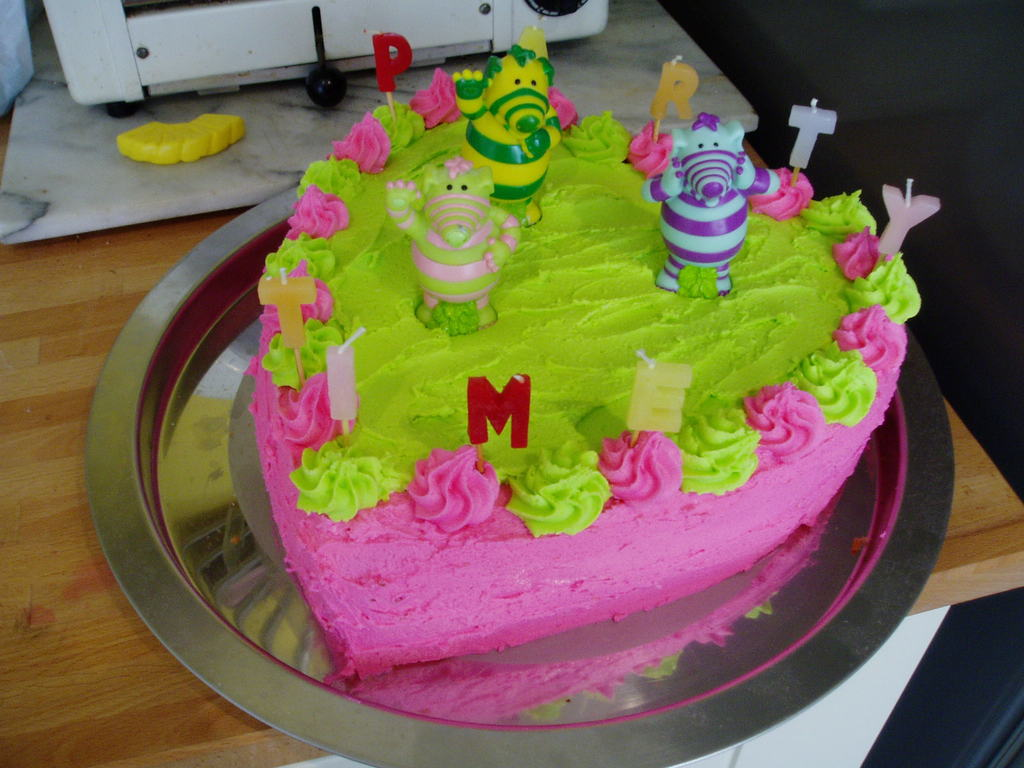cake: (205, 91, 917, 723)
